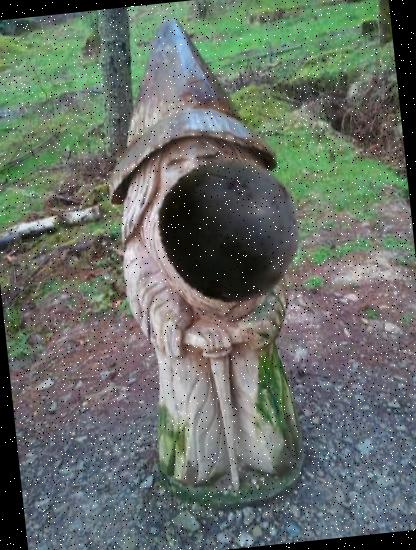Plum: (147, 149, 310, 312)
